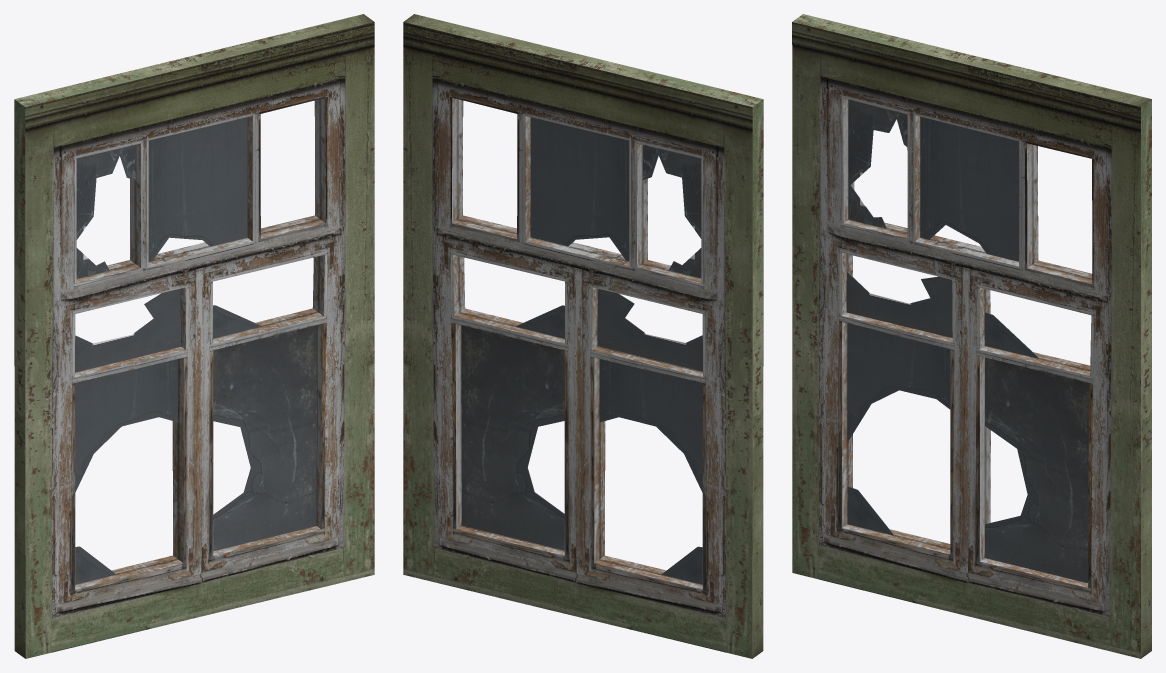
The model's file is Windows_11.fbx.
3 renders of one model, left to right at view 1: azimuth 30°, elevation 25°; view 2: azimuth 150°, elevation 25°; view 3: azimuth 330°, elevation 25°, orthographic.
Visible parts, largest first — view 1: Windows_11, Windows_11glass (×7); view 2: Windows_11, Windows_11glass (×7); view 3: Windows_11, Windows_11glass (×7).
Part boxes in pixels (box(x1,y1,x2,y2)): Windows_11: box(14, 14, 374, 658); Windows_11glass (×7): box(75, 117, 317, 584); Windows_11: box(403, 14, 763, 658); Windows_11glass (×7): box(461, 117, 702, 584); Windows_11: box(792, 14, 1151, 658); Windows_11glass (×7): box(846, 99, 1088, 582).
Size of the model in its own units: 113 by 6.1 by 171.
Materials: 2 (2 with a texture image).
